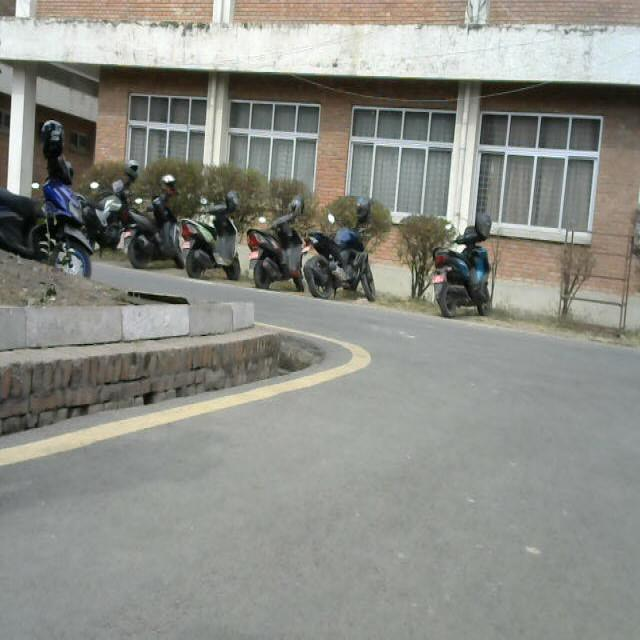Bike: (0, 142, 98, 260), (431, 192, 507, 337), (296, 184, 400, 286), (122, 179, 197, 261), (180, 193, 246, 280), (80, 168, 126, 248)
Buildings: (24, 2, 640, 203)
Road: (2, 330, 640, 640)
